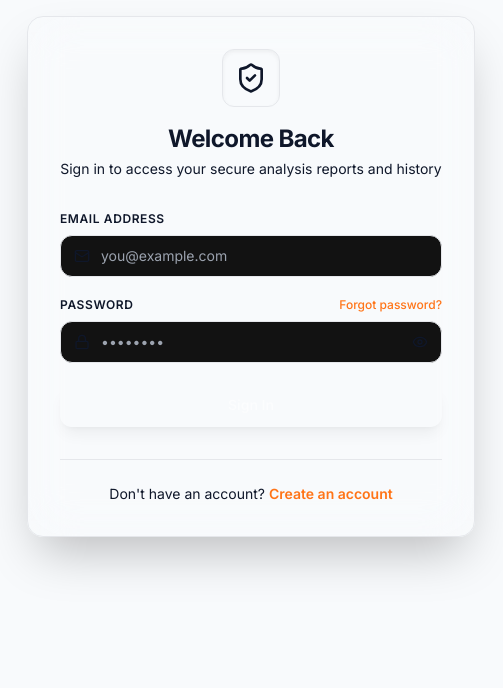
Scenario: Authentication & Account Management › LoginPage › displays safe generic error message on invalid credentials without leaking email existence
Type "unknown@example.com" into the field labelled "Email Address" at (251, 256), box [60,235,442,277]
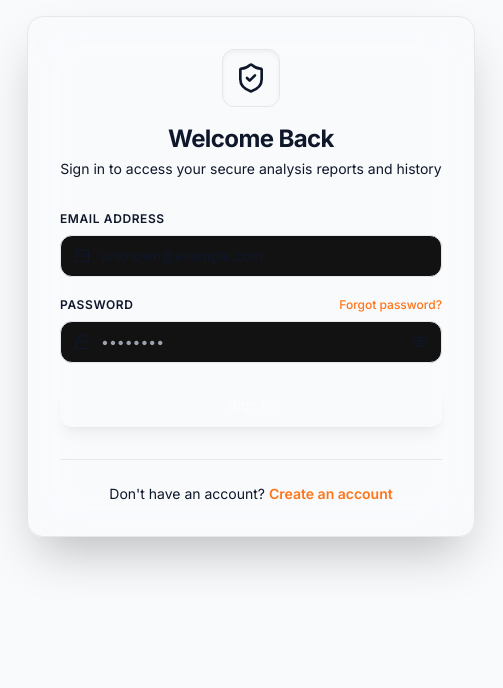
Type "WrongPass123!" into the password field labelled "Password" at (251, 342), box [60,321,442,363]
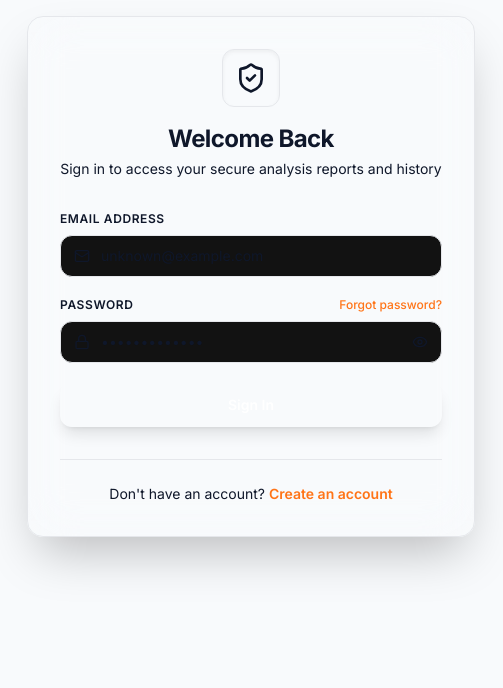
Click the button "Sign In" at (251, 405), box [60,383,442,427]
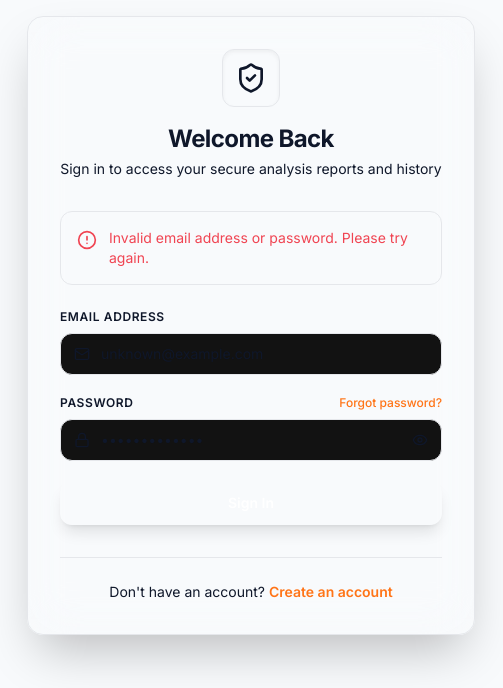
Result: the message shows "Invalid email address or password" at [109,229,408,266]
